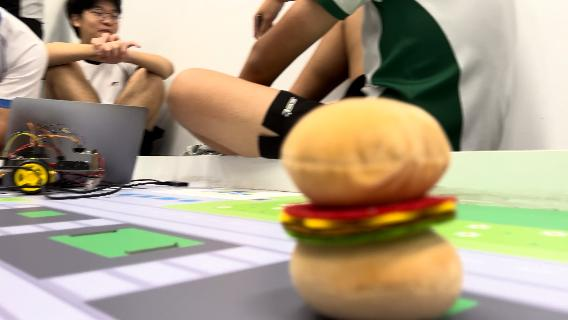burger: (278, 96, 464, 318)
